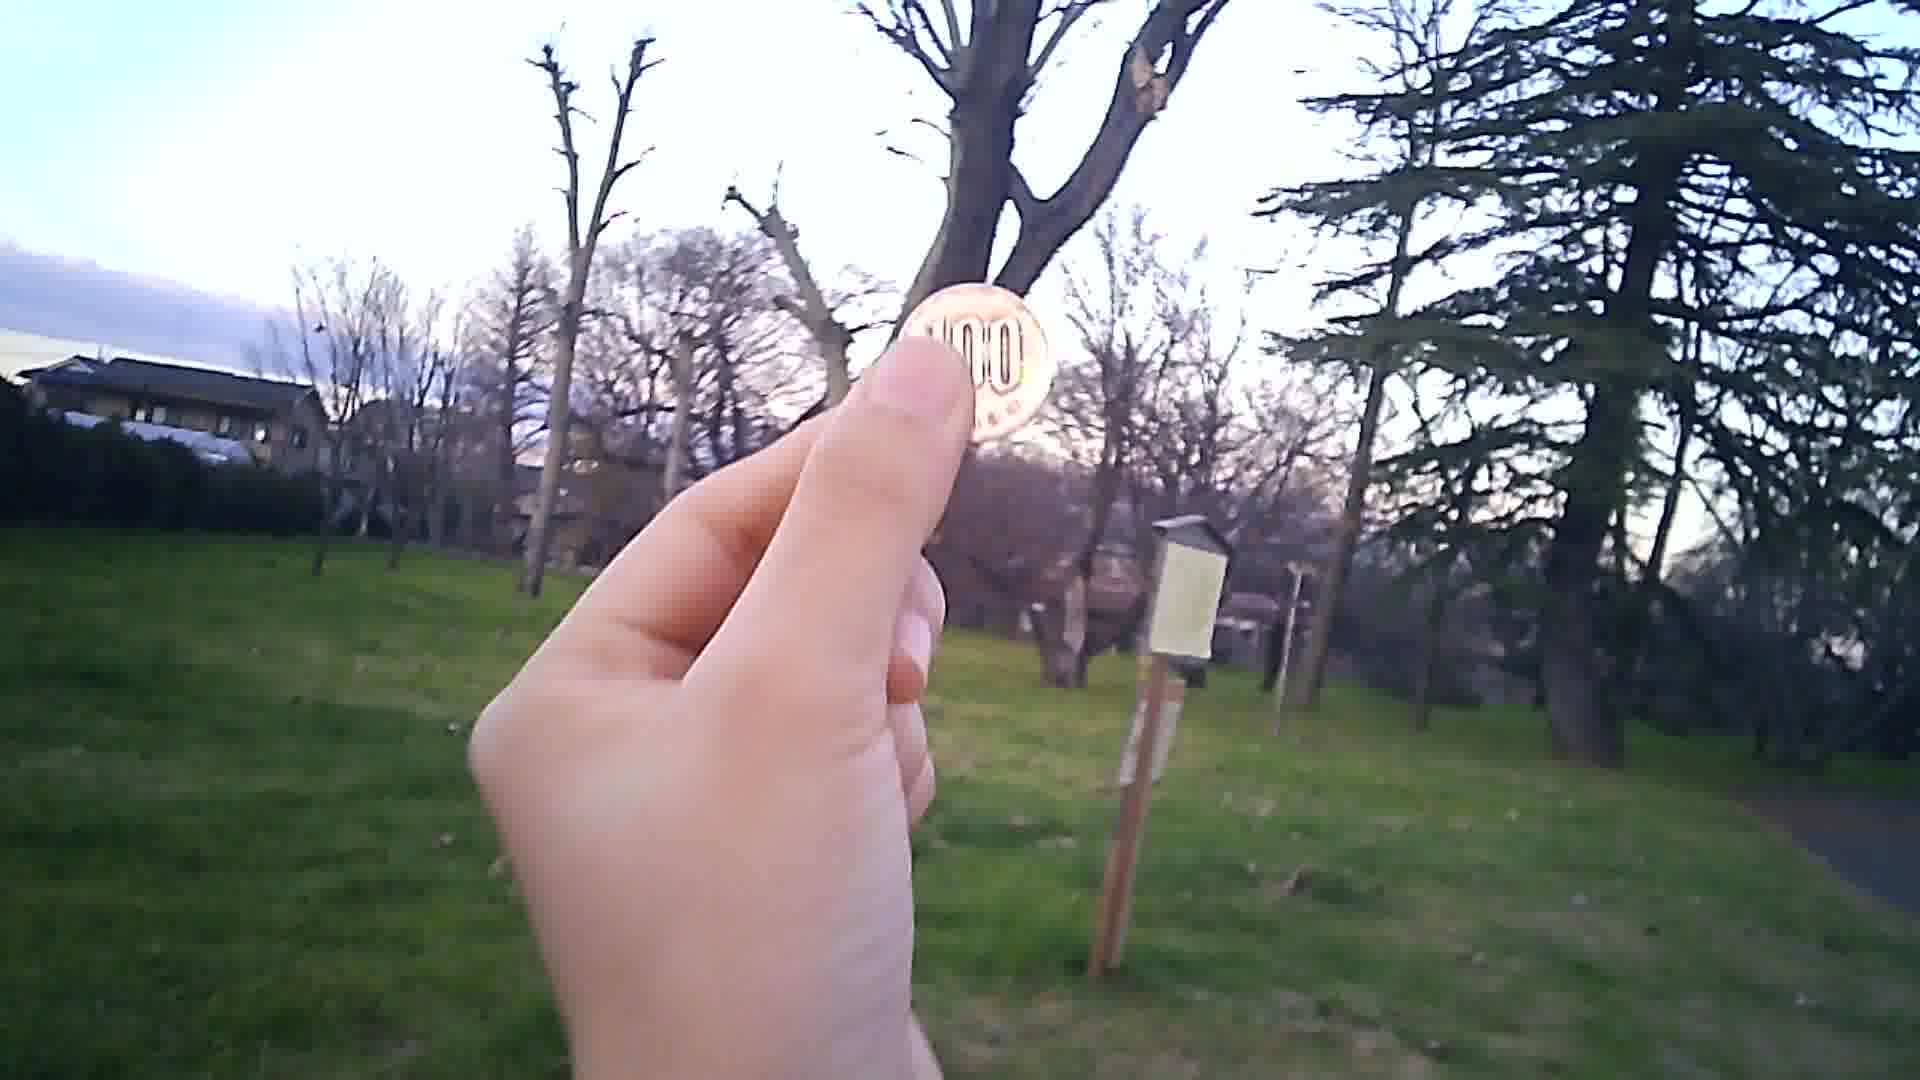100 Yen: (891, 284, 1058, 443)
